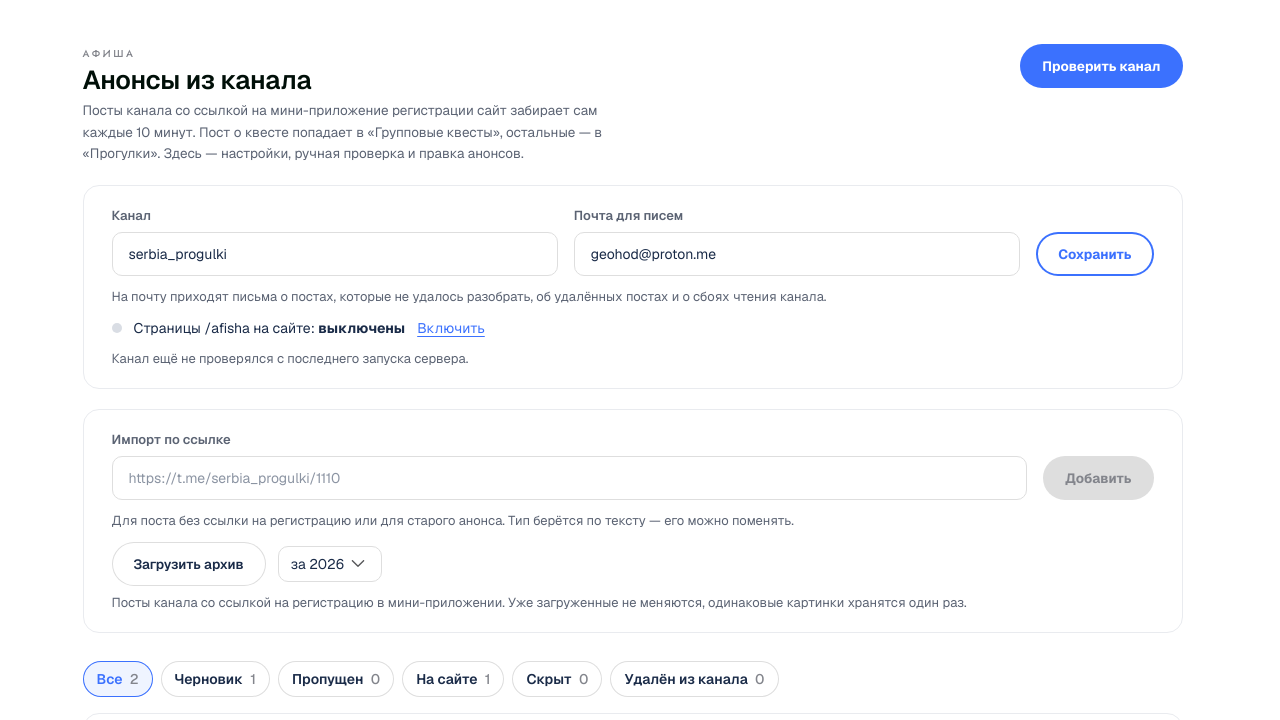
Test case: AdminAfishaPage › loads the archive page by page until there is no next page
Select "за 2026" in the dropdown named "Год": (330, 564) x1=278 y1=546 x2=382 y2=582
Click the button "Загрузить архив": (189, 564) x1=112 y1=542 x2=266 y2=586
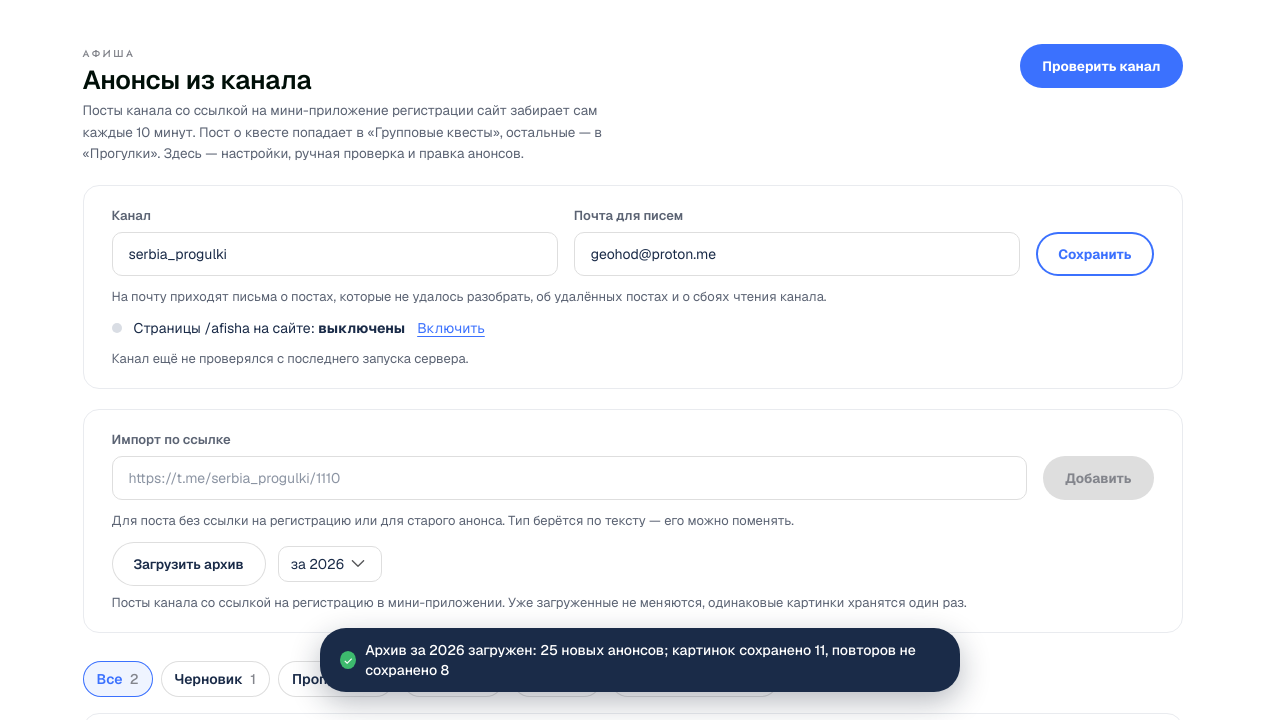
Now the text "Архив за 2026 загружен: 25 новых анонсов; картинок сохранено 11, повторов не сохранено 8" is shown, box x1=365 y1=641 x2=916 y2=679
